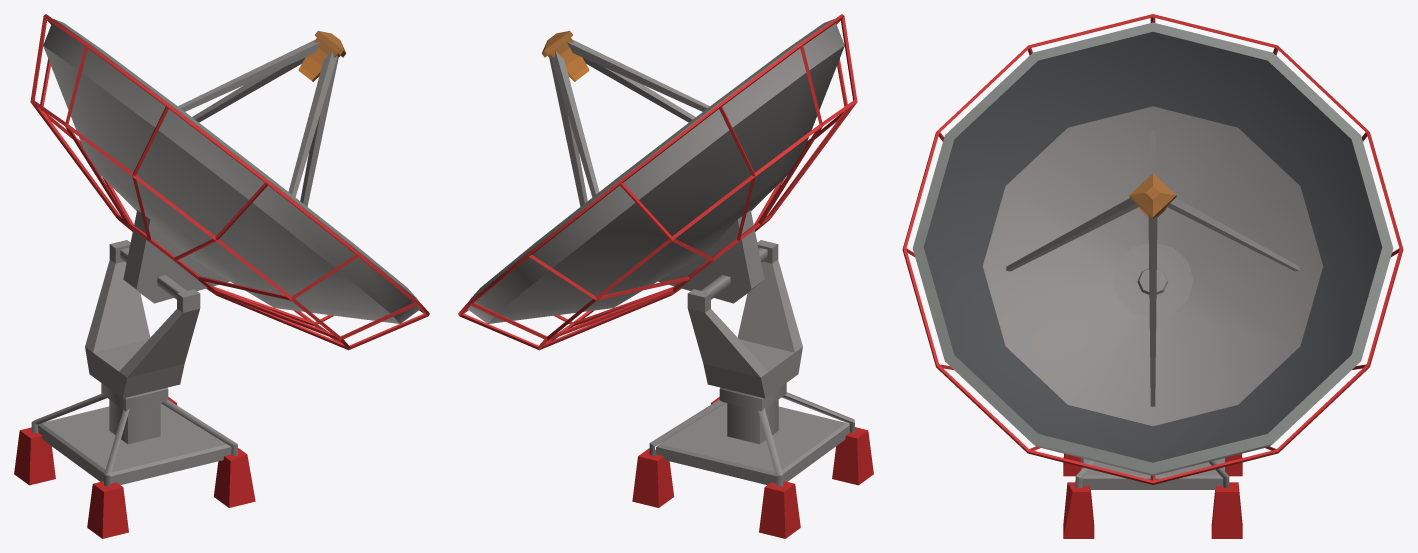
Rendered from SM_Props_Desert_SatelliteAntenna.fbx.
3 views of the same model, side by side, from view 1: azimuth 30°, elevation 25°; view 2: azimuth 150°, elevation 25°; view 3: azimuth 270°, elevation 25° (orthographic).
Visible parts, largest first — view 1: SM_Props_Desert_SatelliteAntenna_Part, SM_Props_Desert_SatelliteAntenna; view 2: SM_Props_Desert_SatelliteAntenna_Part, SM_Props_Desert_SatelliteAntenna; view 3: SM_Props_Desert_SatelliteAntenna_Part, SM_Props_Desert_SatelliteAntenna.
Part boxes in pixels (bbox=[...]): SM_Props_Desert_SatelliteAntenna_Part: bbox=[30, 14, 429, 398]; SM_Props_Desert_SatelliteAntenna: bbox=[14, 383, 255, 538]; SM_Props_Desert_SatelliteAntenna_Part: bbox=[458, 14, 857, 398]; SM_Props_Desert_SatelliteAntenna: bbox=[632, 383, 873, 538]; SM_Props_Desert_SatelliteAntenna_Part: bbox=[902, 14, 1403, 484]; SM_Props_Desert_SatelliteAntenna: bbox=[1063, 453, 1242, 538].
Bounding box in the file's own units: 574 × 758 × 743.
